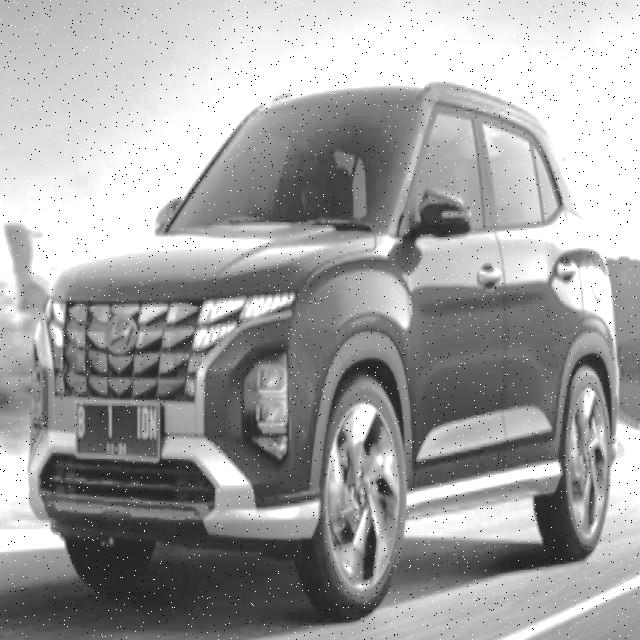Car: (22, 57, 640, 638)
